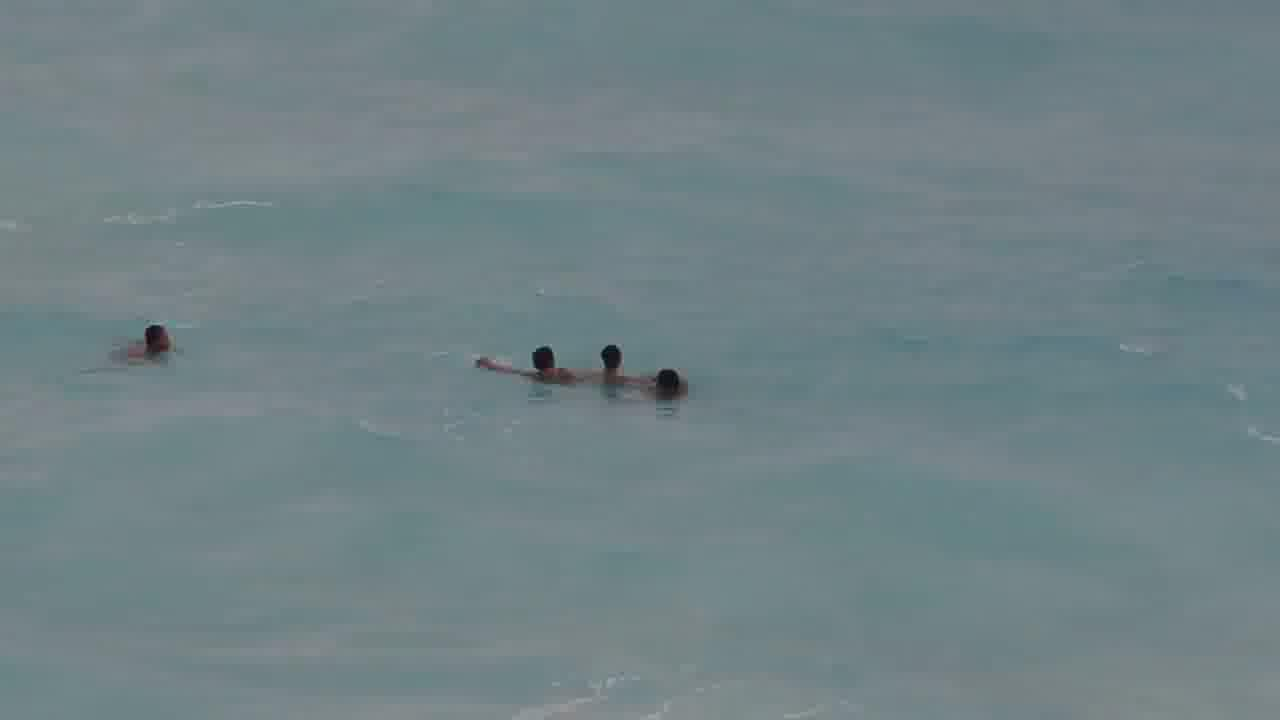swimmer: (466, 344, 584, 394), (102, 317, 188, 362), (574, 340, 640, 397), (637, 355, 695, 402)
